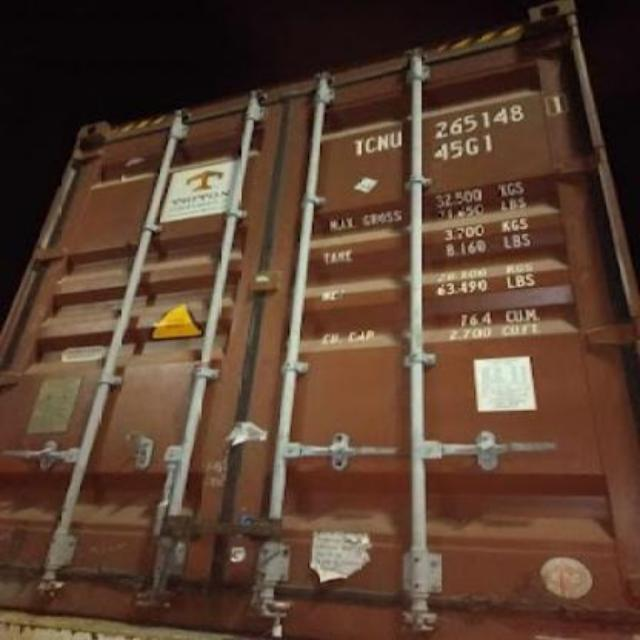1: (544, 94, 566, 116), (478, 108, 492, 128)
2: (432, 116, 450, 140)
4: (492, 104, 508, 130)
5: (462, 110, 478, 136)
6: (451, 115, 464, 135)
8: (506, 100, 528, 130)
C: (362, 130, 376, 158)
N: (376, 130, 388, 154)
T: (348, 136, 364, 158)
U: (386, 125, 399, 151)
